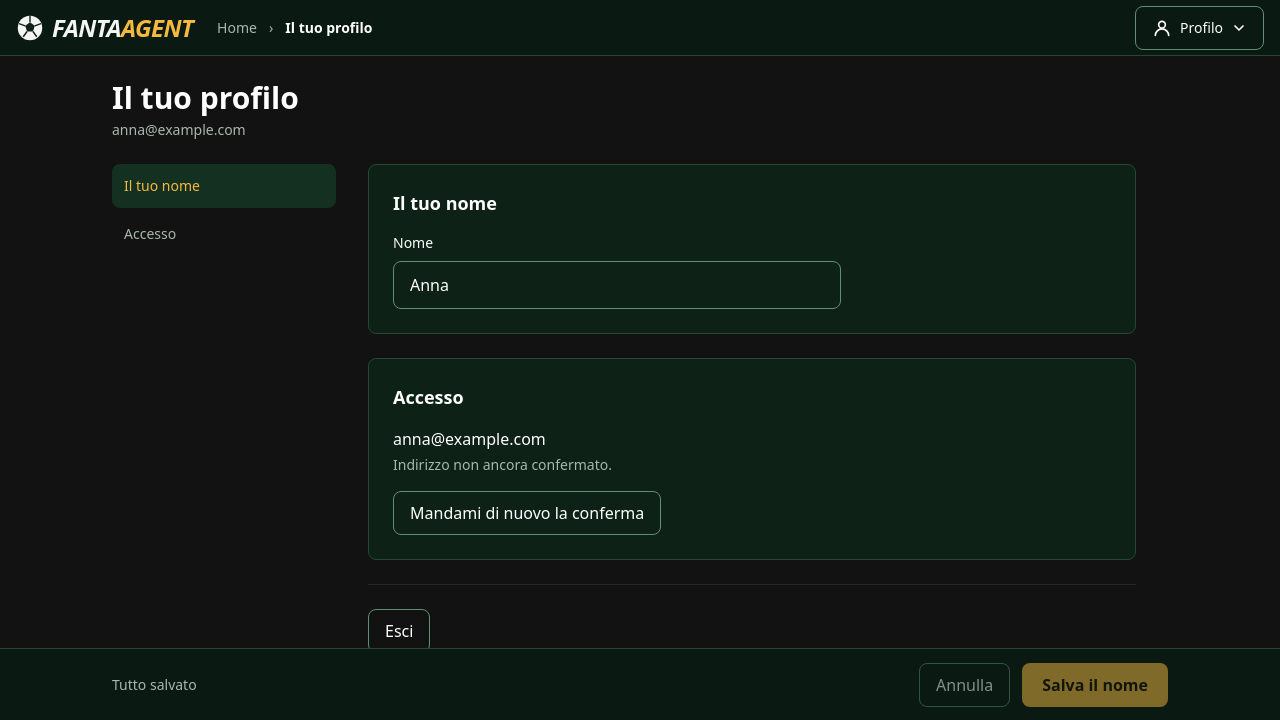
Test: ProfileRoute › se la conferma non parte lo dice accanto al bottone
Click the button "Mandami di nuovo la conferma".
click(527, 513)  # box x1=393 y1=491 x2=661 y2=535
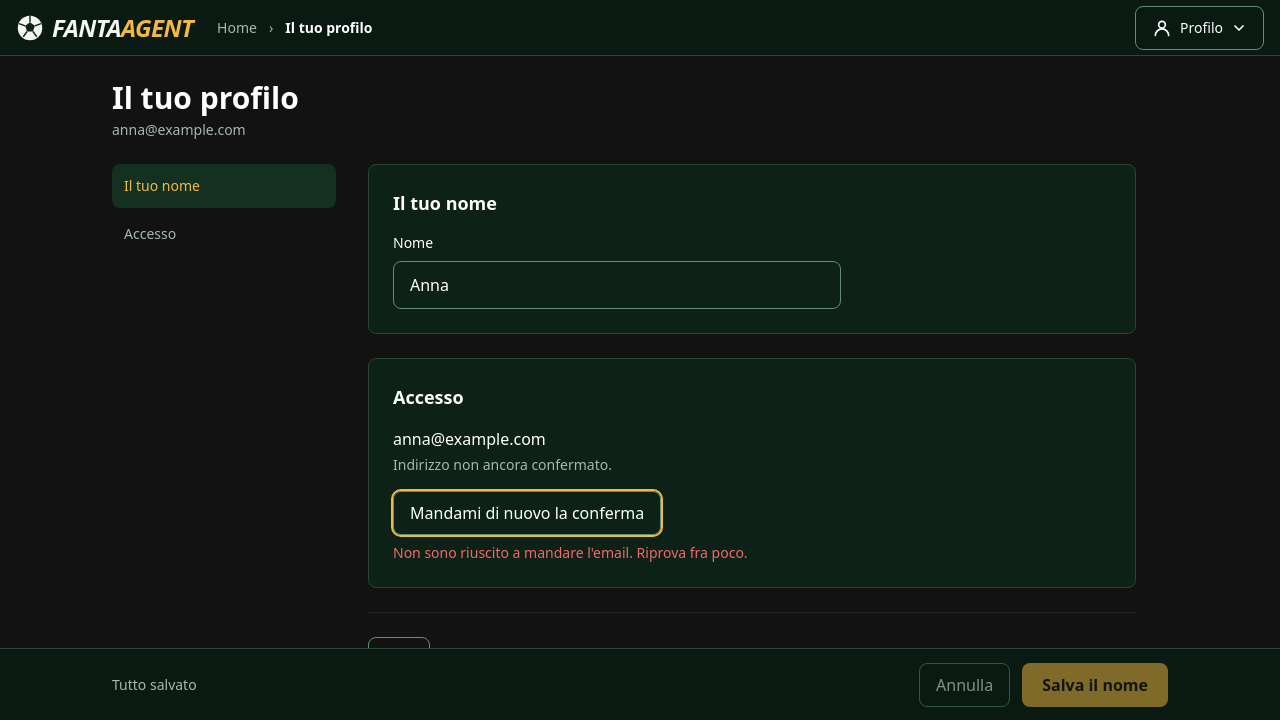
Result: the message reads "Non sono riuscito a mandare l'email. Riprova fra poco." at x1=393 y1=543 x2=748 y2=562
